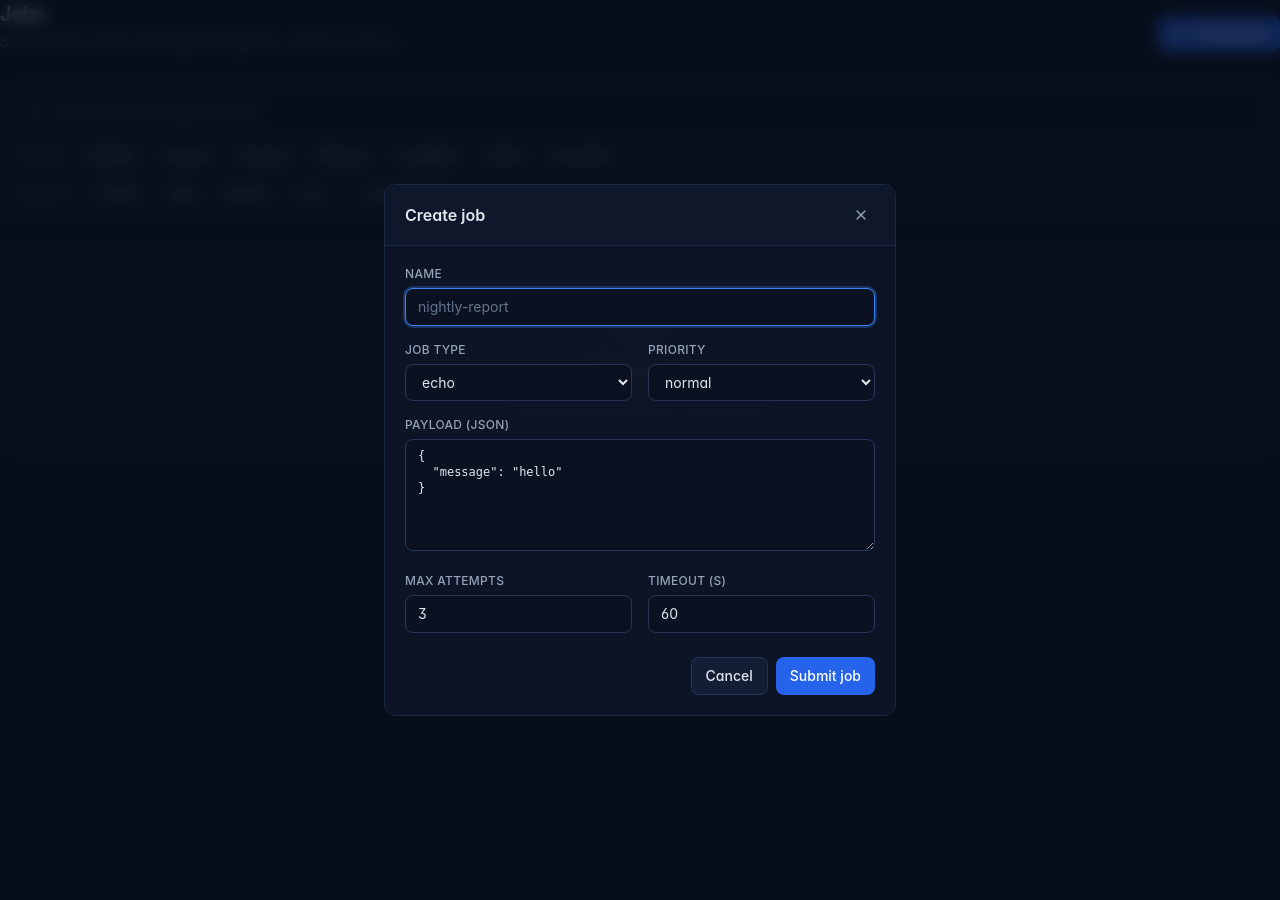
<JobsPage> › creates a job from the dialog
This screenshot has width=1280, height=900.
Type "from-ui" into the field labelled "Name" at {"x": 640, "y": 307}, box [405,288,875,326]
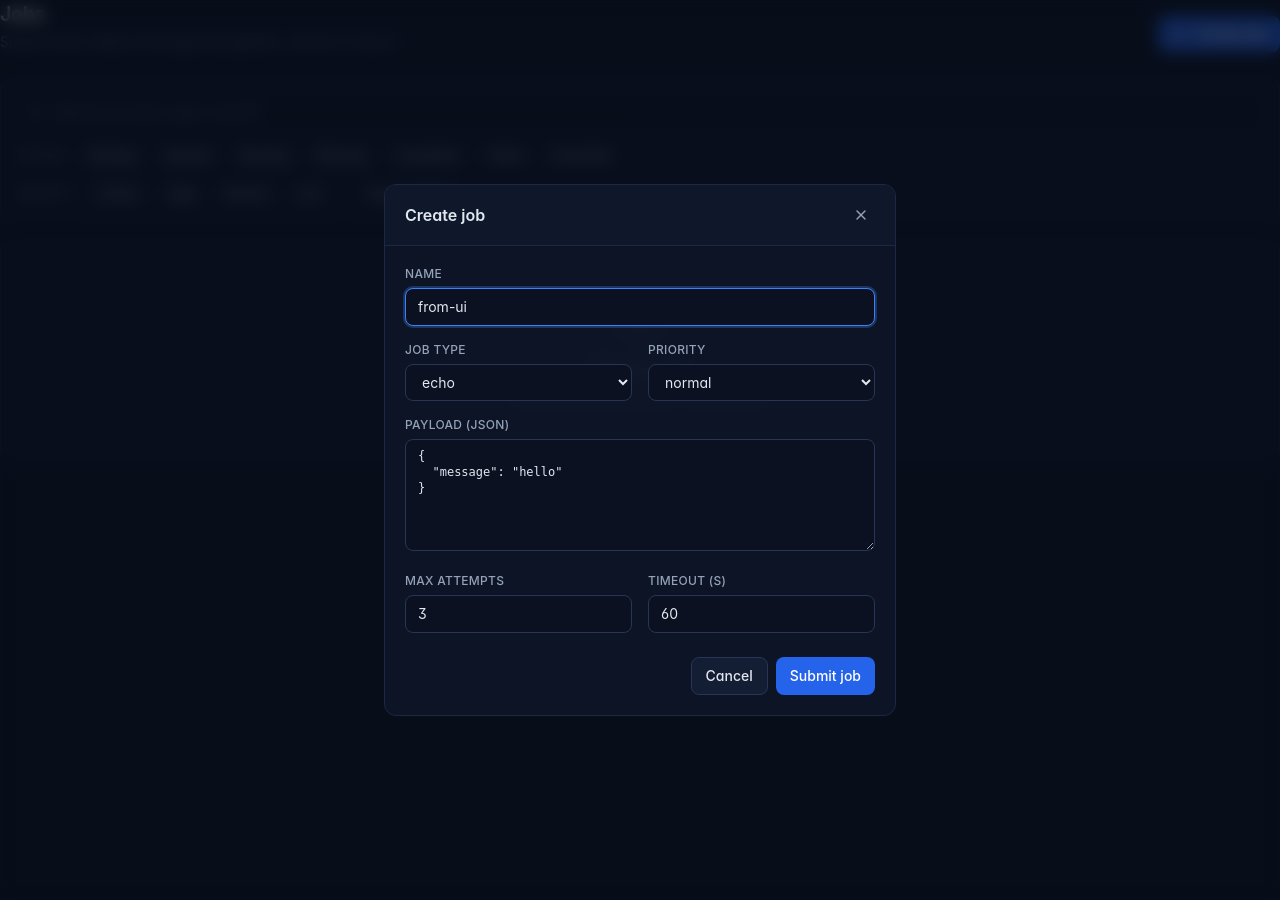
Click the button "Submit job" at {"x": 825, "y": 676}, box [776,657,875,695]
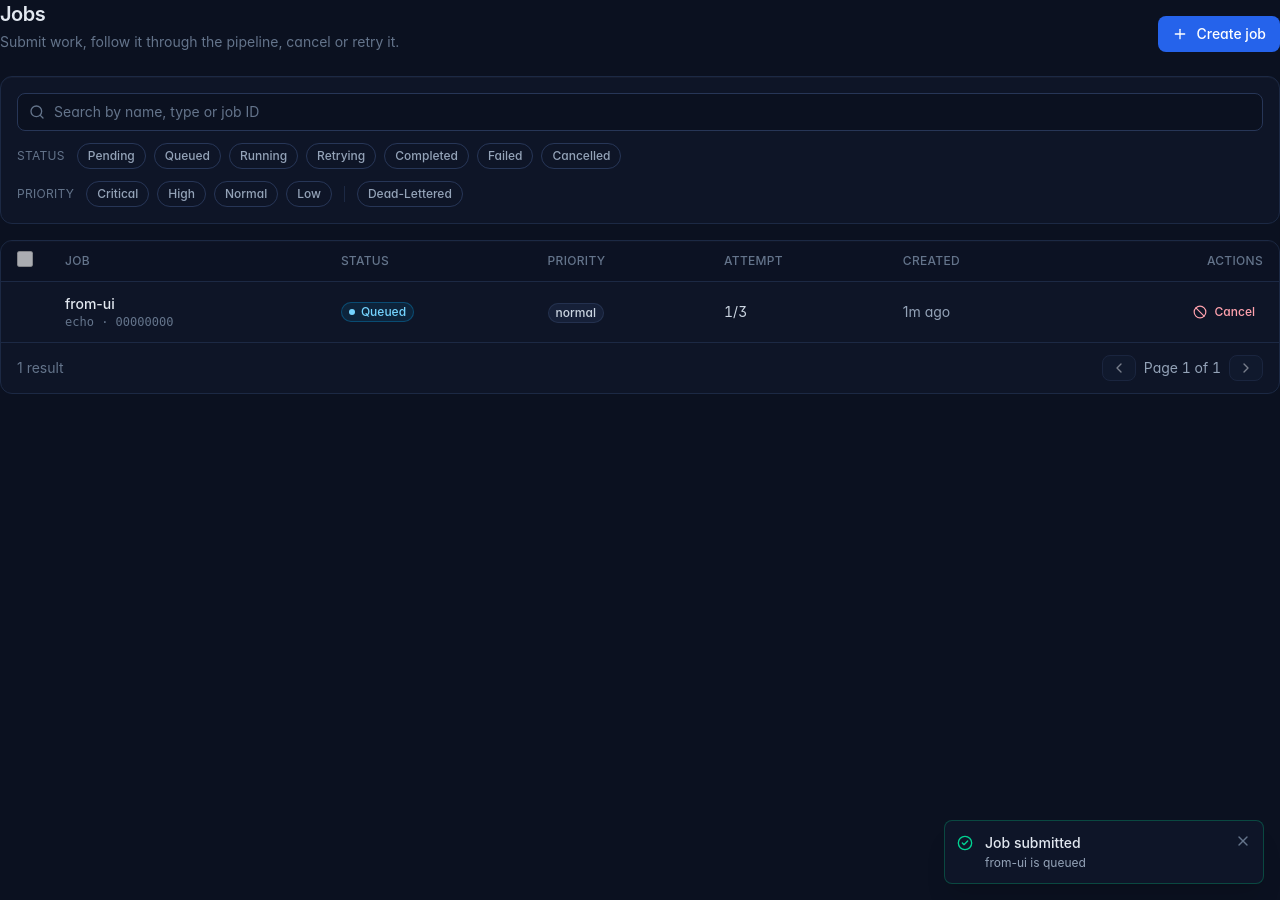
expect the text "Job submitted" is shown: met, box [985,834,1081,851]
